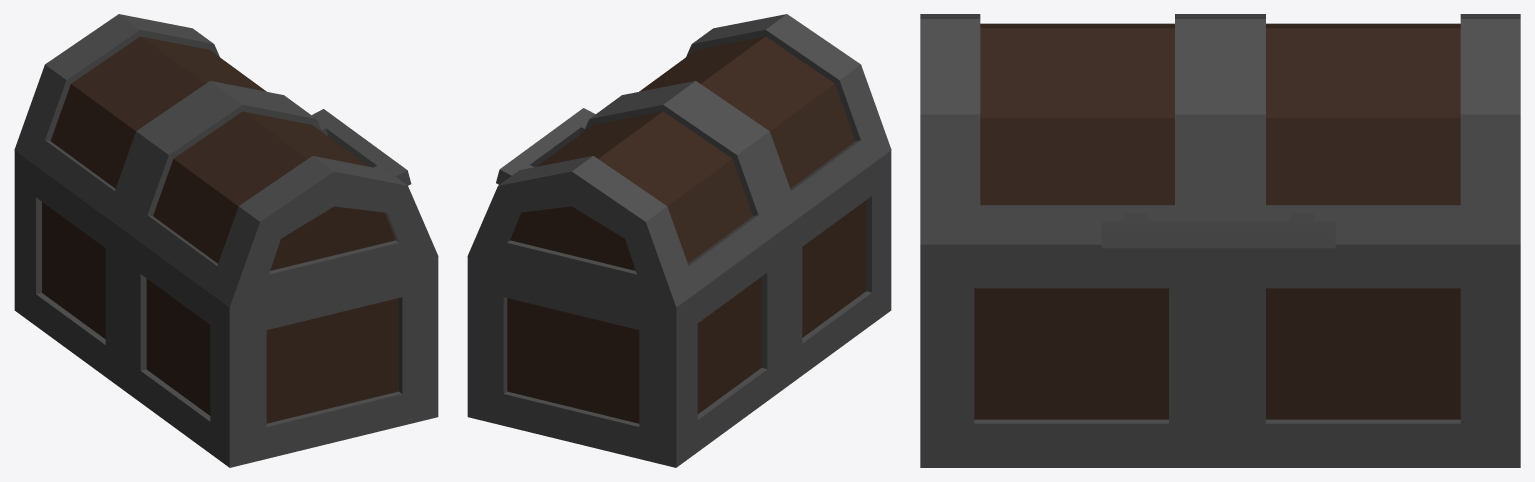
The model's file is envi_chest2.fbx.
3 views of the same model, side by side, from view 1: azimuth 30°, elevation 25°; view 2: azimuth 150°, elevation 25°; view 3: azimuth 270°, elevation 25° (orthographic). The views are drawn at different scales.
Parts seen in each view (by area): view 1: polySurface8, pCube86, polySurface5; view 2: polySurface8, pCube86, polySurface5; view 3: pCube86, polySurface8, polySurface5.
Part boxes in pixels (bbox=[...]): polySurface8: bbox=[14, 14, 438, 307]; pCube86: bbox=[14, 150, 438, 467]; polySurface5: bbox=[311, 109, 411, 185]; polySurface8: bbox=[467, 14, 891, 307]; pCube86: bbox=[467, 150, 891, 467]; polySurface5: bbox=[496, 108, 595, 184]; pCube86: bbox=[920, 244, 1520, 467]; polySurface8: bbox=[920, 14, 1520, 244]; polySurface5: bbox=[1101, 213, 1335, 248].
Size of the model in its own units: 2.1 by 2.2 by 3.17.
